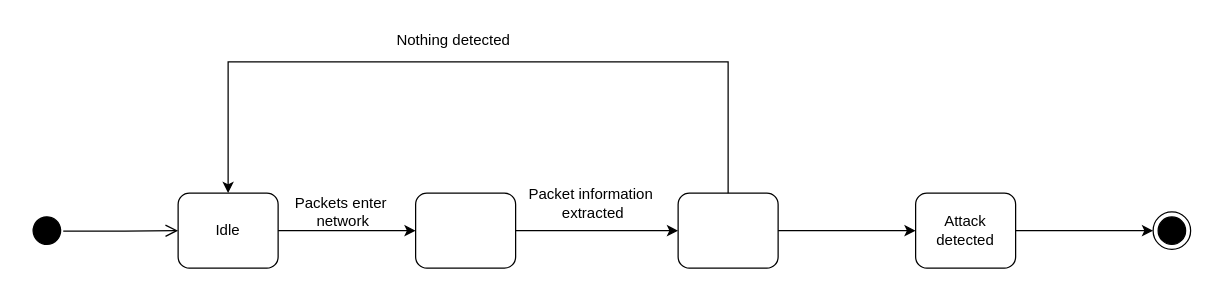
Some shapes in this 1214 by 290 pixel diagram are drawn without their labels. The shapes that lost their labels are listed below. From the top down, each one's box as (x1, y1, x2, y2) in pixels, then its label:
(414, 192, 516, 268): Packet capturing
(677, 192, 778, 268): Evaluating
